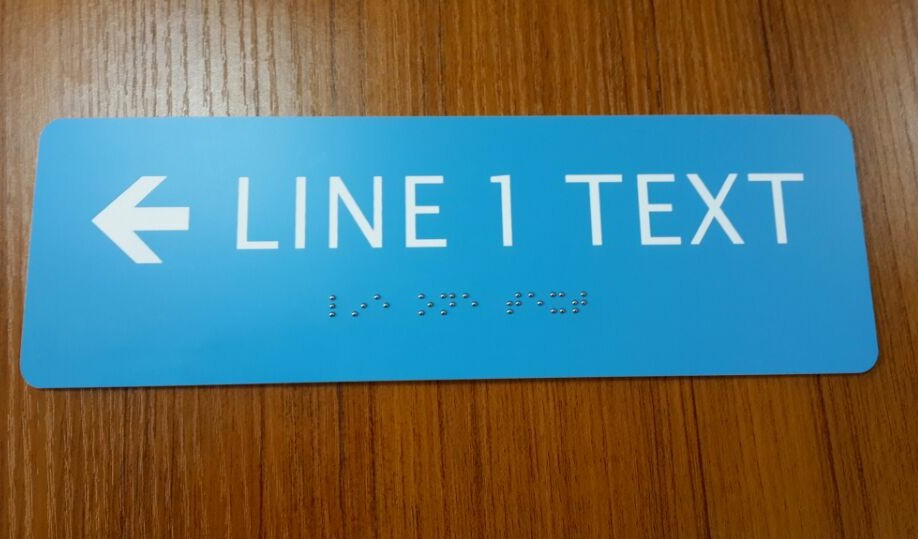Braille: (502, 288, 525, 320), (547, 288, 569, 320), (347, 291, 370, 321), (570, 286, 591, 318), (415, 289, 436, 319), (459, 290, 480, 320), (373, 290, 393, 321), (525, 289, 545, 320), (437, 289, 457, 319), (328, 292, 346, 318)
